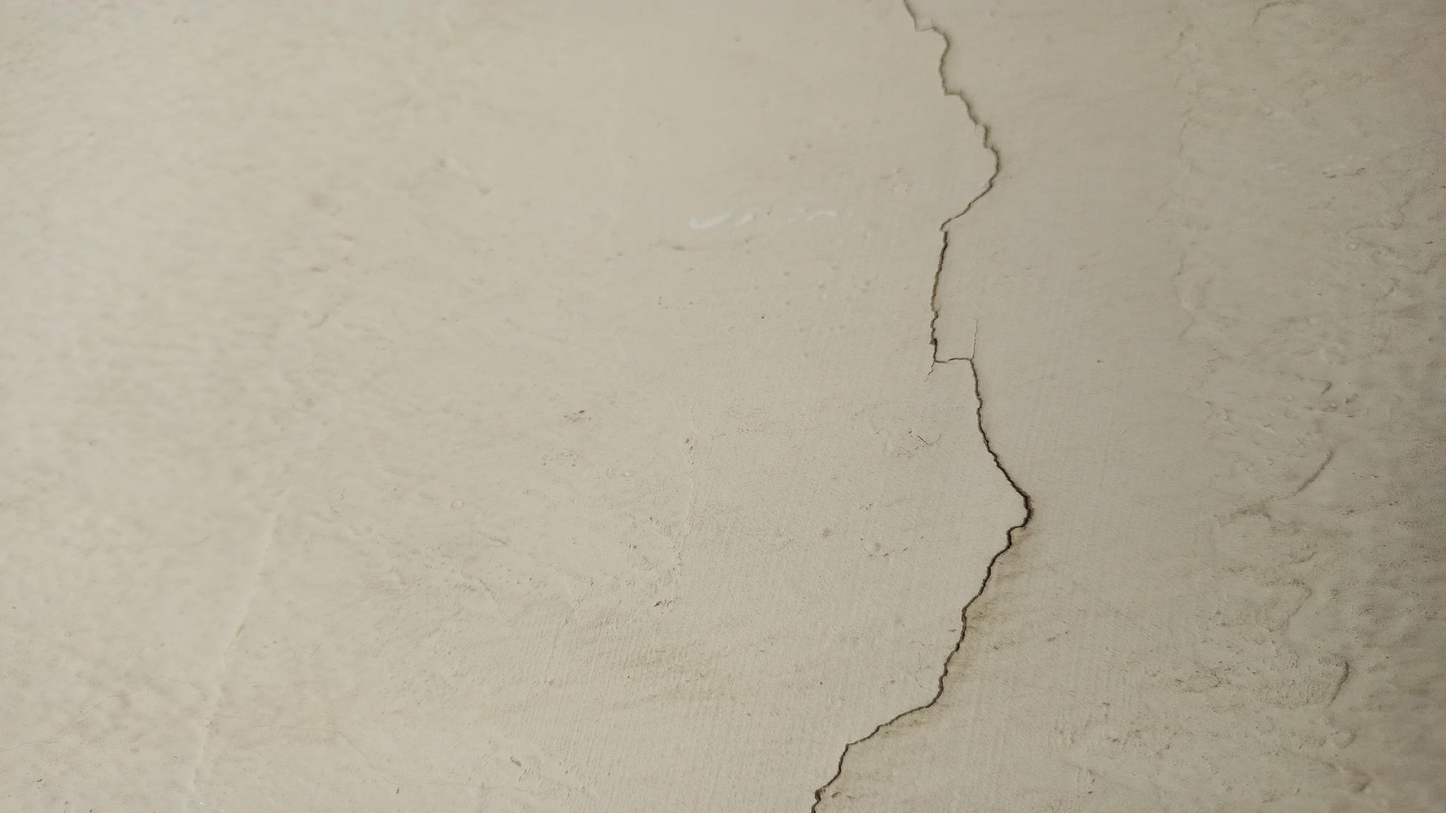crack: (811, 1, 1031, 812)
